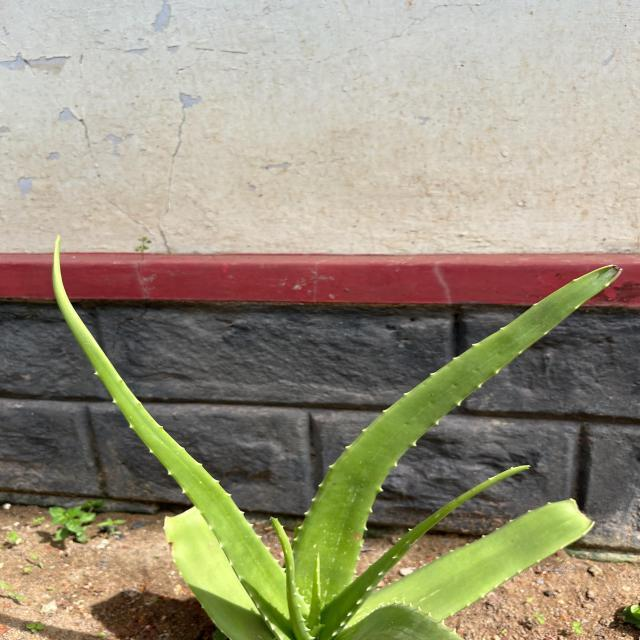Aloe vera: (303, 256, 629, 640), (43, 232, 296, 640)
